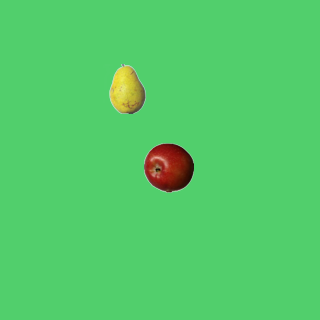Apple Braeburn: (143, 142, 193, 192)
Pear Monster: (102, 63, 152, 113)
